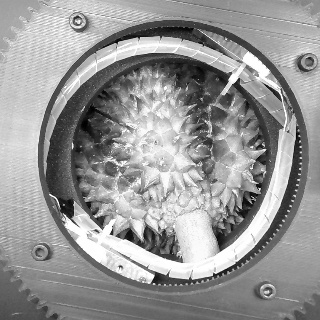base: (170, 204, 215, 234)
